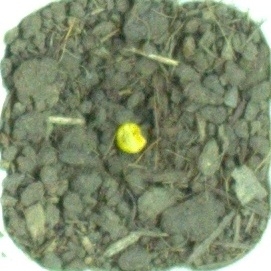chilli seed: (114, 121, 149, 155)
